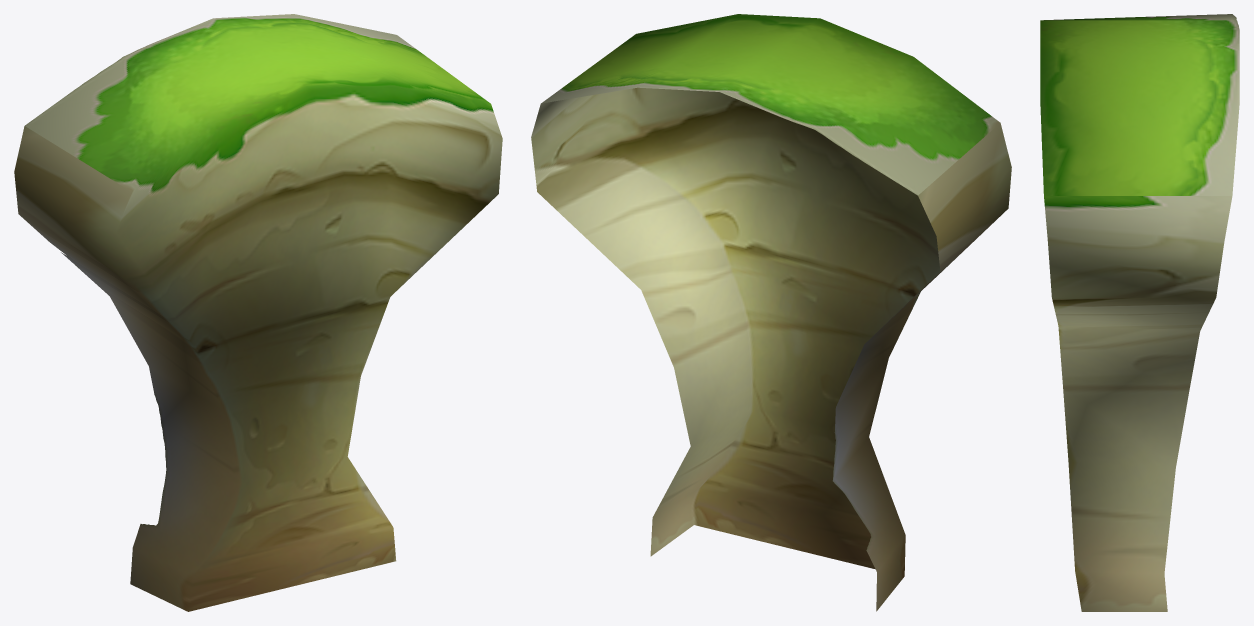
The model's file is Chapter4Scene1Model12.FBX.
3 renders of one model, left to right at view 1: azimuth 30°, elevation 25°; view 2: azimuth 150°, elevation 25°; view 3: azimuth 270°, elevation 25°, orthographic.
Visible parts, largest first — view 1: Chapter4Scene1Model12; view 2: Chapter4Scene1Model12; view 3: Chapter4Scene1Model12.
Part boxes in pixels (x1,y1,x2,y2): Chapter4Scene1Model12: [14, 14, 502, 611]; Chapter4Scene1Model12: [531, 14, 1011, 611]; Chapter4Scene1Model12: [1040, 14, 1239, 611].
Size of the model in its own units: 86.8 by 37.34 by 106.
